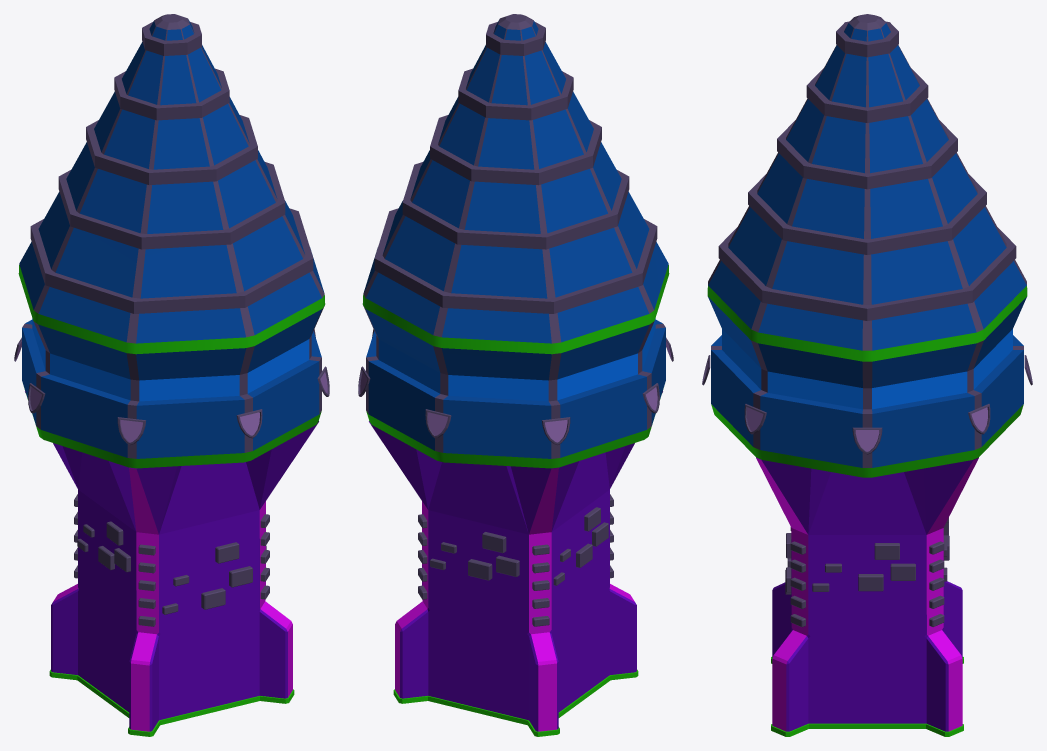
The model's file is Tower4.fbx.
3 renders of one model, left to right at view 1: azimuth 30°, elevation 25°; view 2: azimuth 150°, elevation 25°; view 3: azimuth 270°, elevation 25°, orthographic.
Parts seen in each view (by area): view 1: Tower4_LOD0; view 2: Tower4_LOD0; view 3: Tower4_LOD0.
Boxes of the visible parts, bbox=[...] form: Tower4_LOD0: bbox=[14, 14, 329, 736]; Tower4_LOD0: bbox=[358, 14, 673, 736]; Tower4_LOD0: bbox=[702, 14, 1032, 736].
Size of what is drawn, in the model's own units: 2734 by 6181 by 2734.
